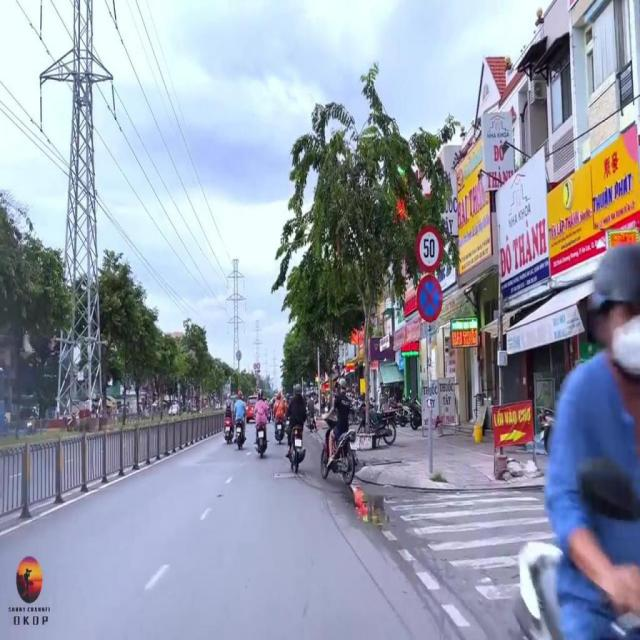cam_dung_xe_va_do_xe: (416, 276, 442, 324)
toc_do_toi_da_50: (416, 227, 444, 274)
